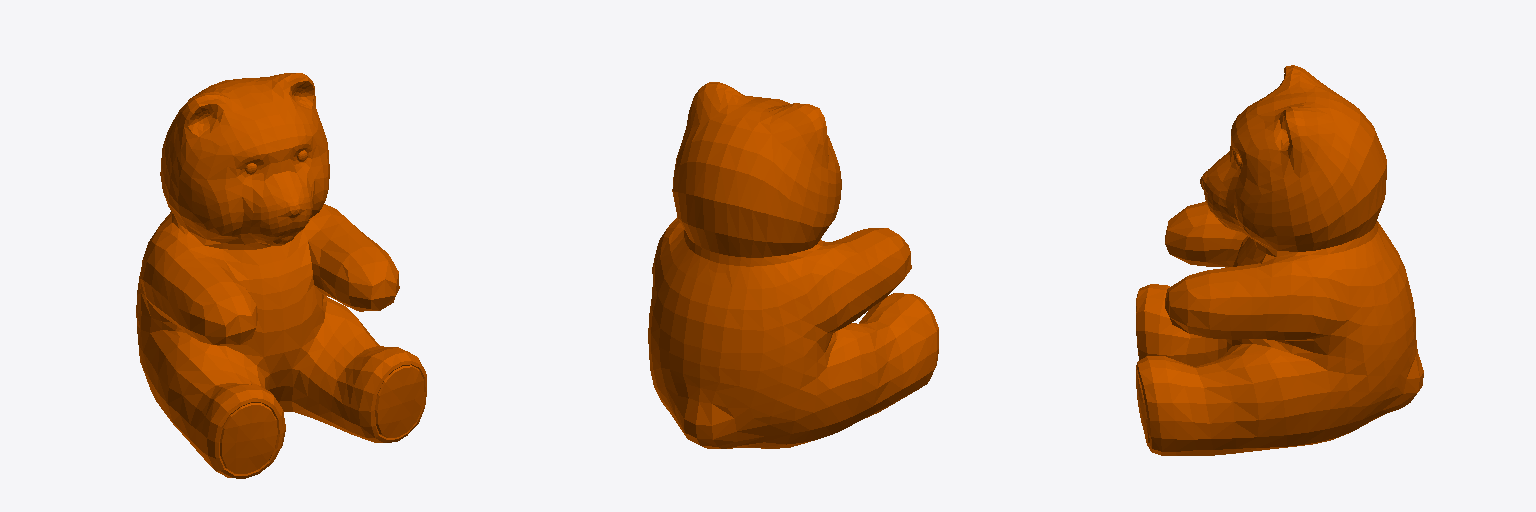
File: Bear1.obj
The picture shows the model from 3 angles: view 1: azimuth 30°, elevation 25°; view 2: azimuth 150°, elevation 25°; view 3: azimuth 270°, elevation 25°; orthographic projection.
Parts seen in each view (by area): view 1: Bear_Plane; view 2: Bear_Plane; view 3: Bear_Plane.
Part boxes in pixels (left/top/right/bottom): Bear_Plane: left=136, top=73, right=426, bottom=478; Bear_Plane: left=648, top=82, right=938, bottom=448; Bear_Plane: left=1136, top=65, right=1423, bottom=455.
Size of the model in its own units: 0.715 by 1.04 by 0.8185.